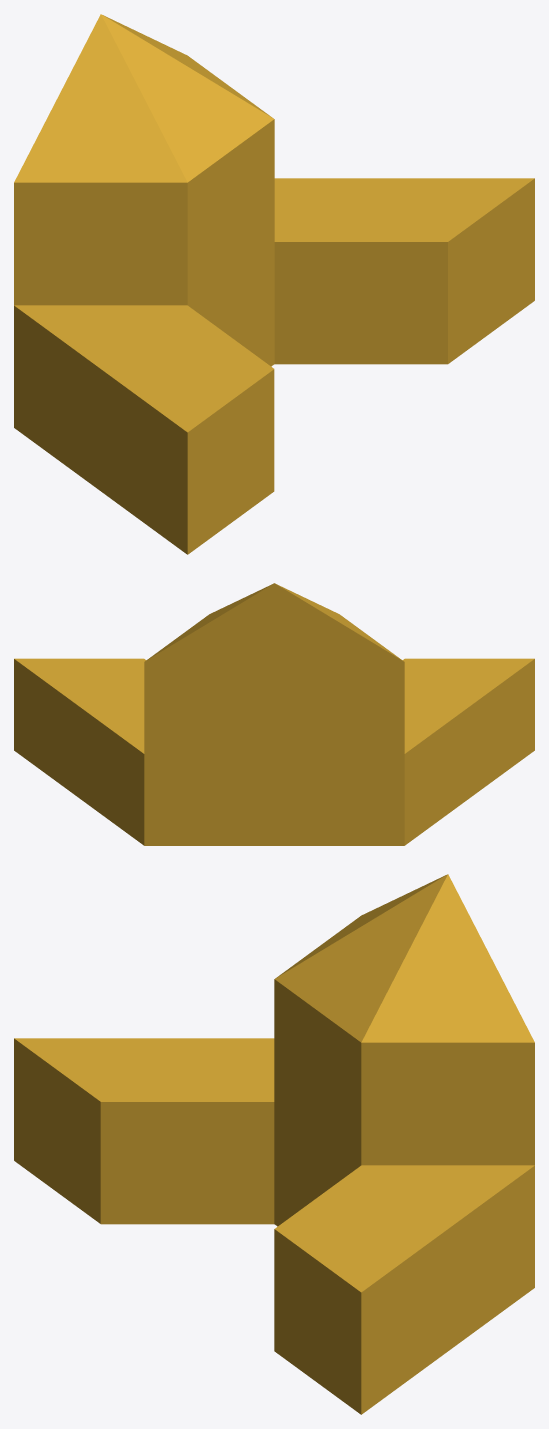
The model's file is Desk.fbx.
3 views of the same model, one above another, from view 1: azimuth 30°, elevation 25°; view 2: azimuth 150°, elevation 25°; view 3: azimuth 270°, elevation 25° (orthographic). The views are drawn at different scales.
Visible parts, largest first — view 1: Desk mid, Desk wing L, Desk wing r; view 2: Desk mid, Desk wing r, Desk wing L; view 3: Desk mid, Desk wing r, Desk wing L.
Part boxes in pixels (<box>): Desk mid: <box>14,14,274,366</box>; Desk wing L: <box>14,305,274,554</box>; Desk wing r: <box>274,178,534,364</box>; Desk mid: <box>144,583,404,845</box>; Desk wing r: <box>14,658,146,845</box>; Desk wing L: <box>402,658,534,845</box>; Desk mid: <box>274,874,534,1226</box>; Desk wing r: <box>274,1165,534,1414</box>; Desk wing L: <box>14,1038,274,1224</box>.
Bounding box in the file's own units: 615 × 395 × 533.
